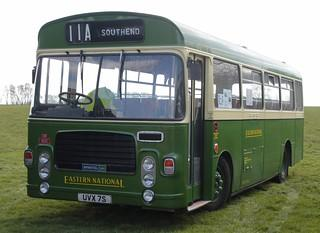bus: (22, 10, 308, 219)
